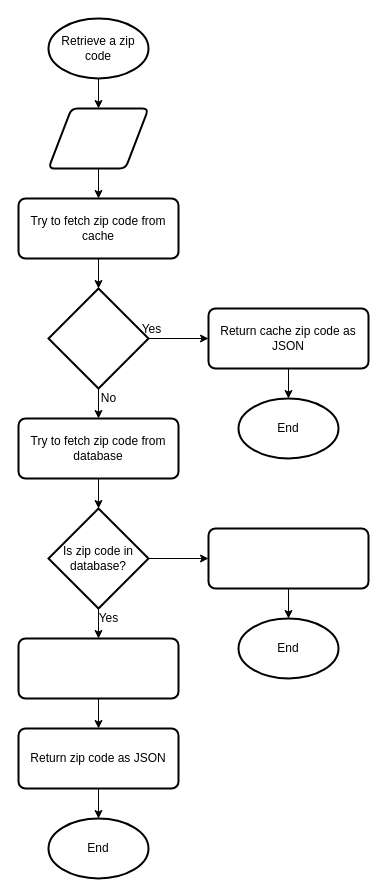
This 386x896 diagram has some shape labels left out. Here are the shapes that lost their labels. From the top down, the centre of each, then its label:
(x=98, y=138): zip code
(x=98, y=338): Is zip code in cache?
(x=288, y=558): Return not found error
(x=98, y=668): Store the zip code in cache
